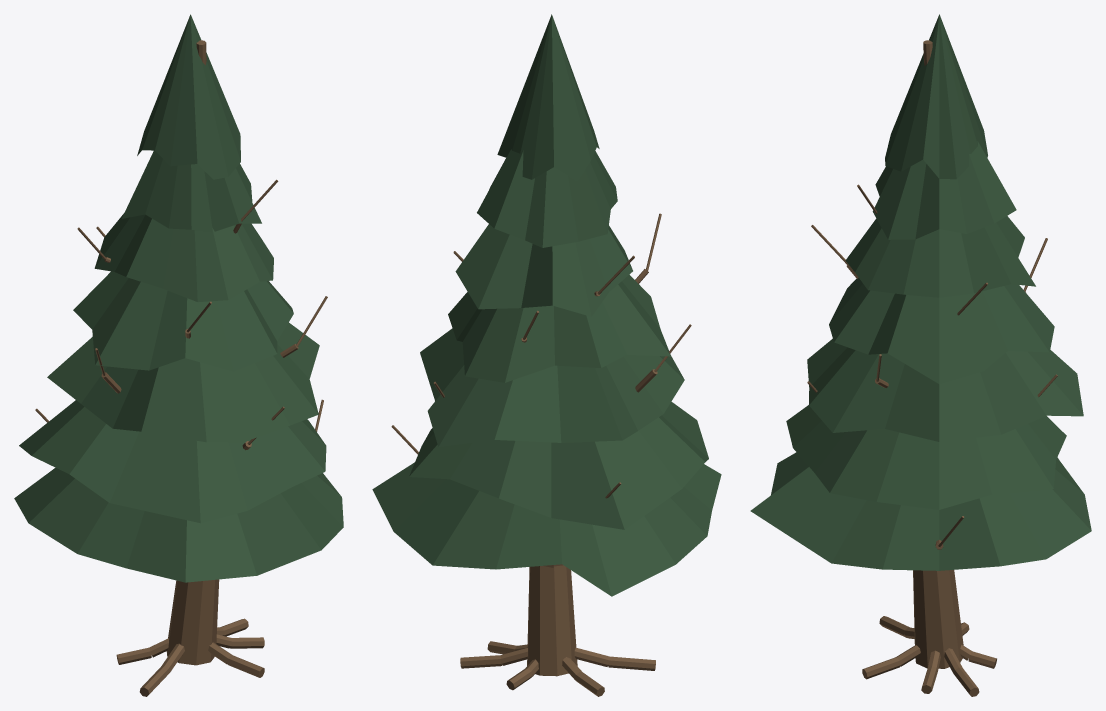
The model's file is tree_pine.glb.
3 views of the same model, side by side, from view 1: azimuth 30°, elevation 25°; view 2: azimuth 150°, elevation 25°; view 3: azimuth 270°, elevation 25° (orthographic). The views are drawn at different scales.
Visible parts, largest first — view 1: tree_pine; view 2: tree_pine; view 3: tree_pine.
Boxes of the visible parts, <box> form: tree_pine: <box>14,14,343,696</box>; tree_pine: <box>372,14,721,696</box>; tree_pine: <box>750,14,1091,696</box>.
Size of the model in its own units: 5.9 by 12.59 by 6.02.
